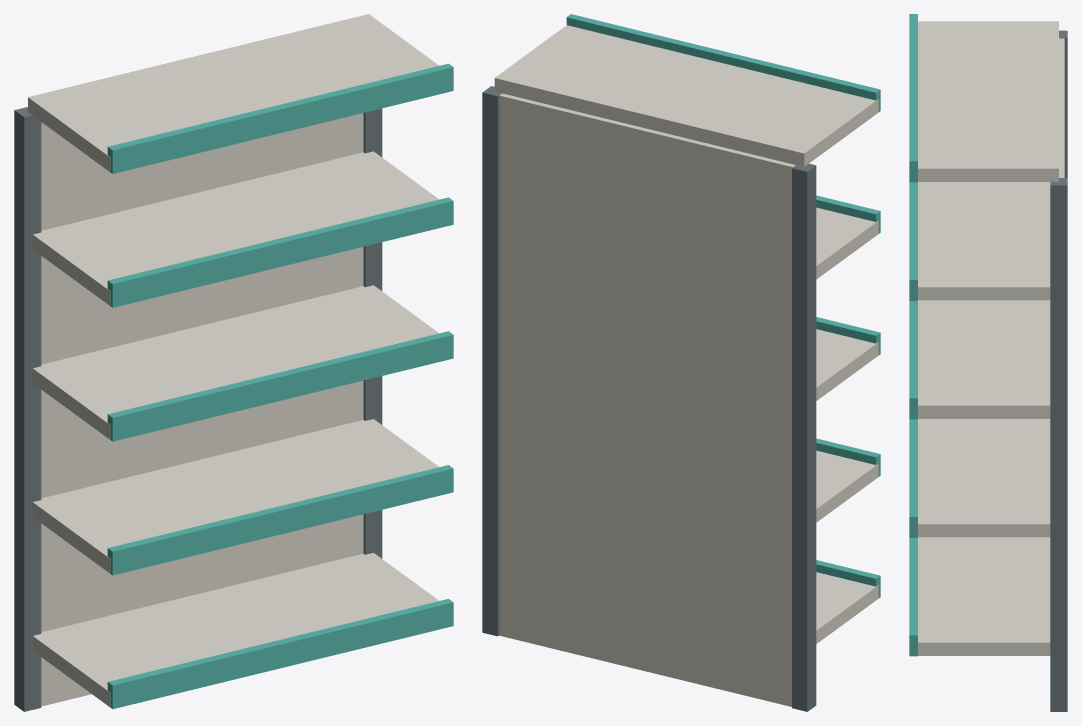
Rendered from supermarket-operations-single-sided-gondola-0c0ecc85__26743.glb.
3 views of the same model, side by side, from view 1: azimuth 30°, elevation 25°; view 2: azimuth 150°, elevation 25°; view 3: azimuth 270°, elevation 25° (orthographic). The views are drawn at different scales.
Parts seen in each view (by area): view 1: single-sided-gondola; view 2: single-sided-gondola; view 3: single-sided-gondola.
Part boxes in pixels (x1,y1,x2,y2): single-sided-gondola: [14, 14, 453, 711]; single-sided-gondola: [482, 14, 880, 711]; single-sided-gondola: [909, 14, 1067, 711].
Size of the model in its own units: 1.26 by 2.08 by 0.5451.
